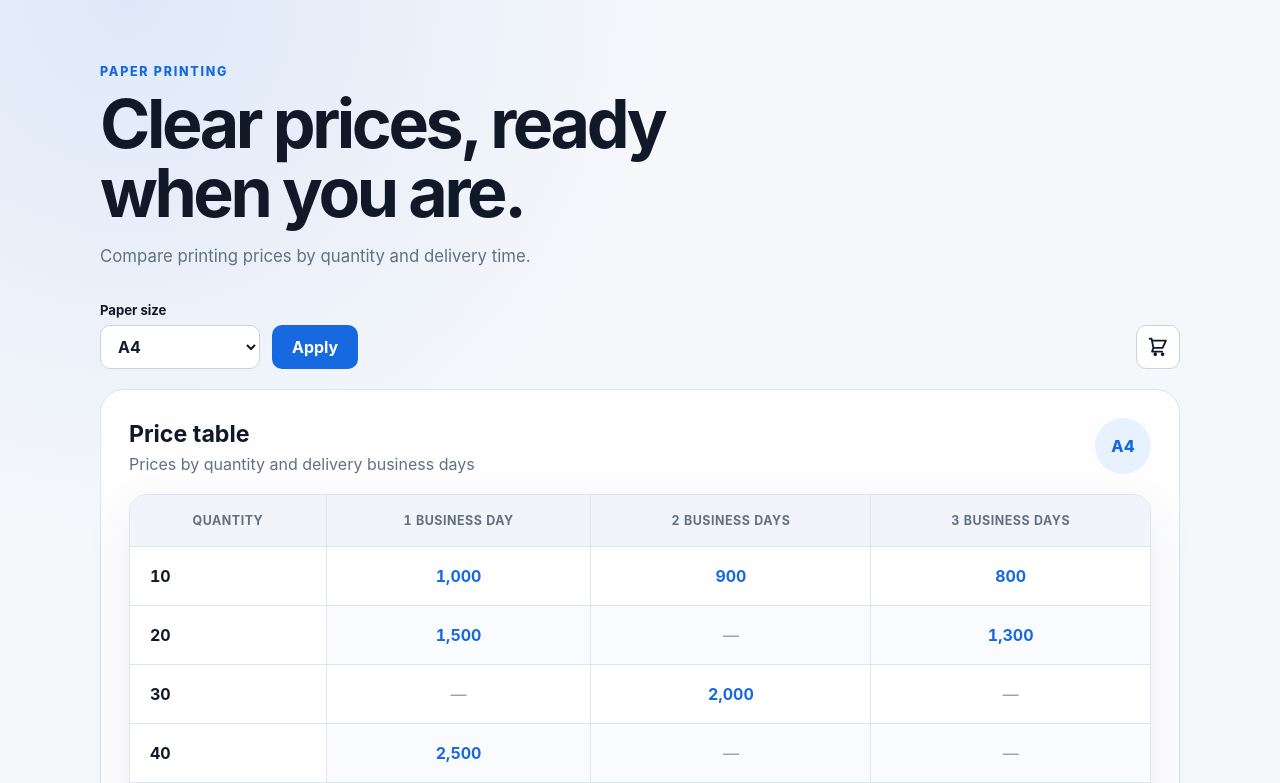
App › opens the cart modal from the cart icon without affecting the table
Click the button named "View cart" at (1158, 347), box [1136,325,1180,369]
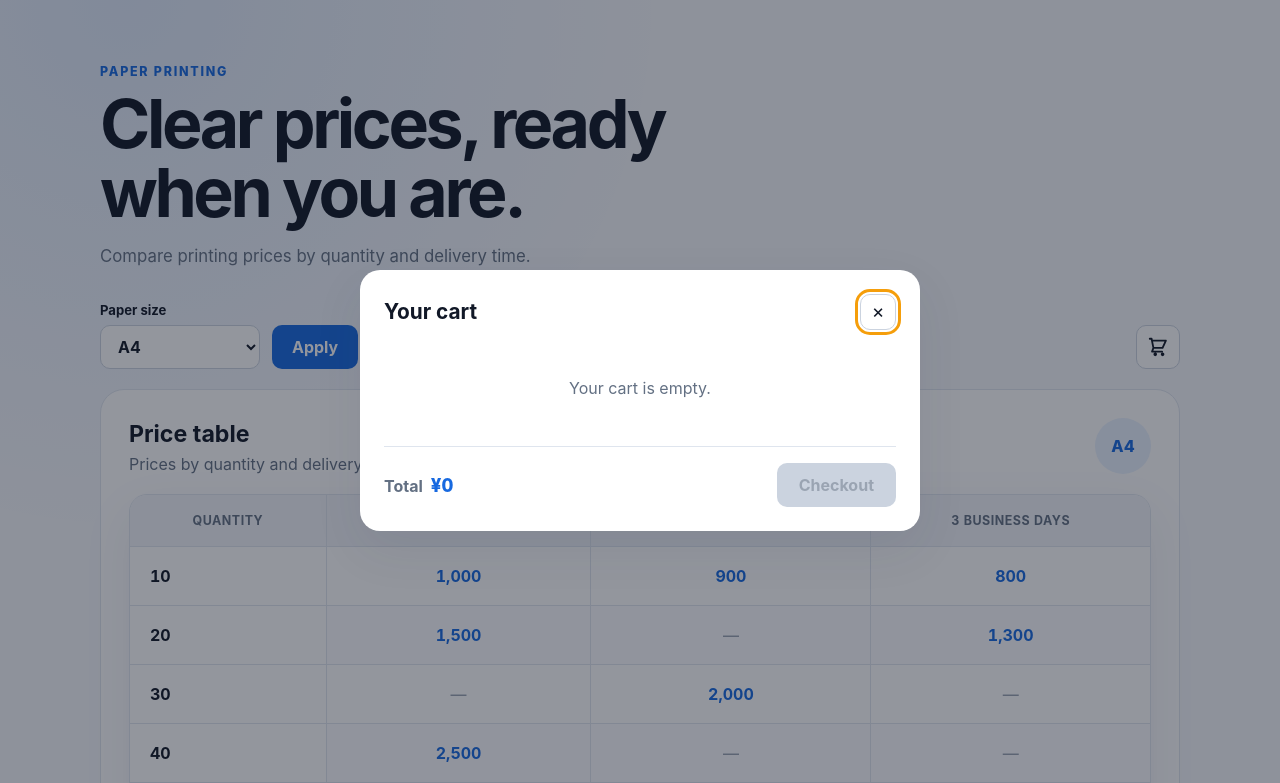
Check: the dialog "Your cart" is shown, box [360,270,920,530]
